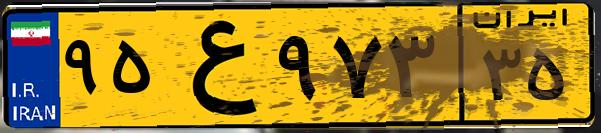3: (385, 28, 445, 110), (475, 38, 525, 113)
5: (525, 38, 570, 115), (110, 28, 158, 98)
7: (330, 28, 385, 110)
9: (270, 28, 330, 110), (57, 26, 110, 100)
ع: (158, 12, 270, 120)
